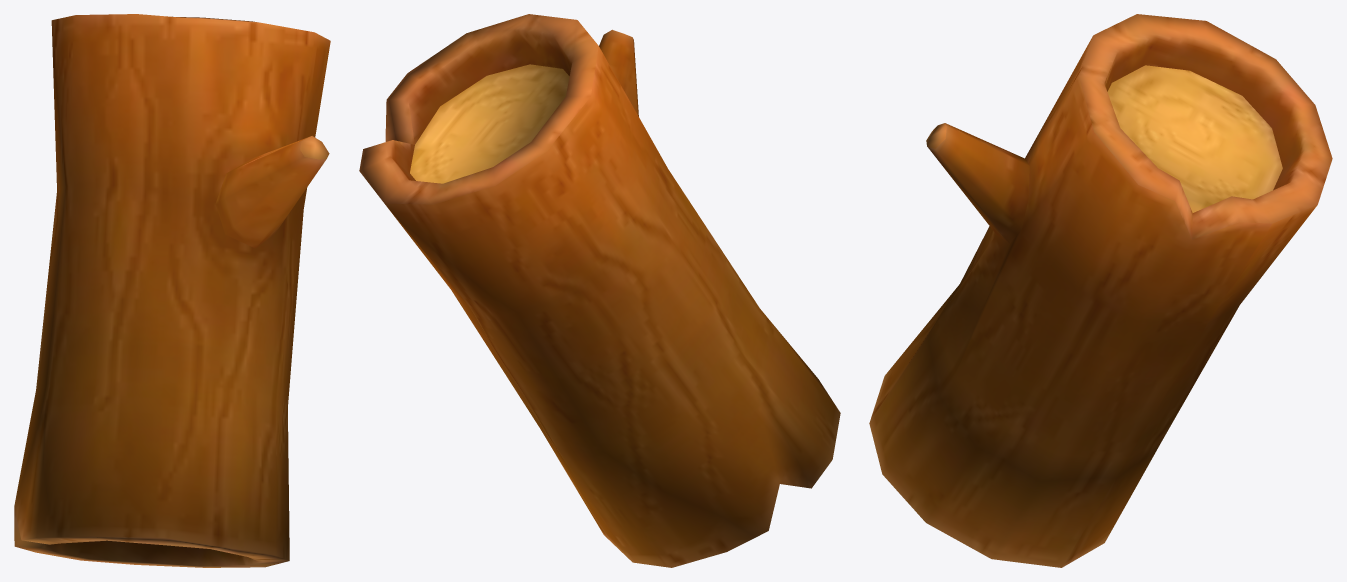
Rendered from log4-compressed.glb.
The picture shows the model from 3 angles, left to right: view 1: azimuth 30°, elevation 25°; view 2: azimuth 150°, elevation 25°; view 3: azimuth 270°, elevation 25°; orthographic projection. The views are drawn at different scales.
Parts seen in each view (by area): view 1: log_low; view 2: log_low; view 3: log_low.
Boxes of the visible parts, x1,y1,x2,y2 form: log_low: [14, 14, 330, 567]; log_low: [359, 14, 840, 567]; log_low: [869, 14, 1332, 567].
Size of the model in its own units: 2.99 by 4.16 by 3.24.
1 material, 1 textured.
